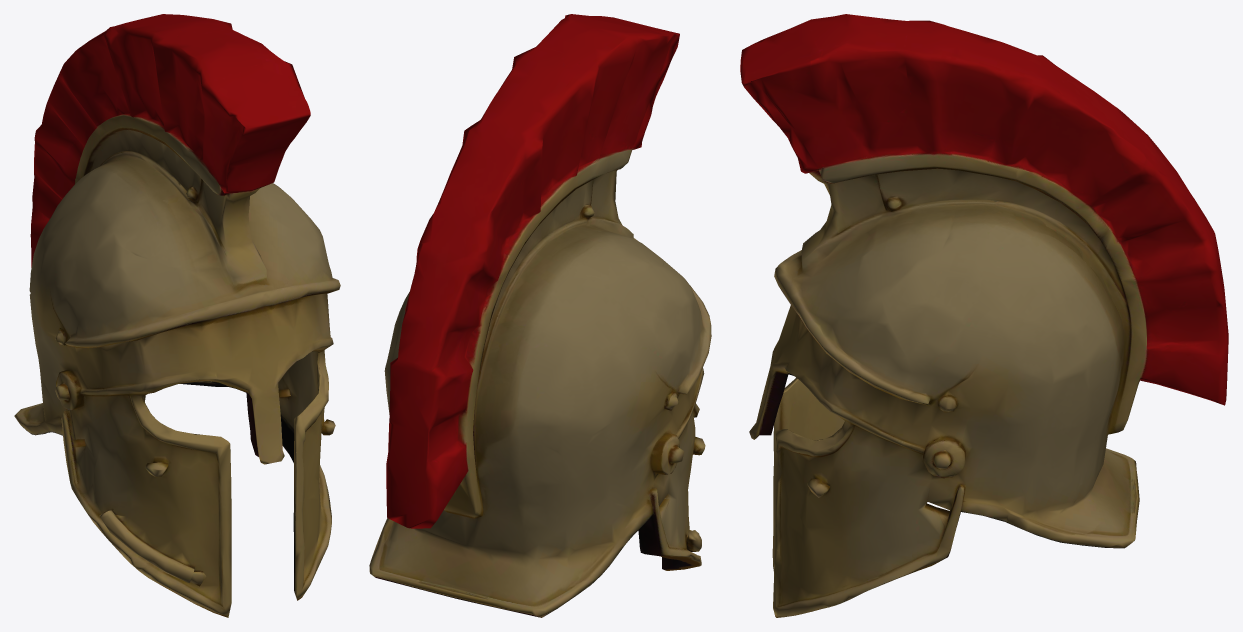
File: helmet.glb
3 renders of one model, left to right at view 1: azimuth 30°, elevation 25°; view 2: azimuth 150°, elevation 25°; view 3: azimuth 270°, elevation 25°, orthographic. The views are drawn at different scales.
Visible parts, largest first — view 1: tripo_node_1ce73e2d-44f3-4b07-b92a-cba2ce7c2c00; view 2: tripo_node_1ce73e2d-44f3-4b07-b92a-cba2ce7c2c00; view 3: tripo_node_1ce73e2d-44f3-4b07-b92a-cba2ce7c2c00.
Part boxes in pixels (x1,y1,x2,y2): tripo_node_1ce73e2d-44f3-4b07-b92a-cba2ce7c2c00: [14, 14, 340, 617]; tripo_node_1ce73e2d-44f3-4b07-b92a-cba2ce7c2c00: [369, 14, 711, 617]; tripo_node_1ce73e2d-44f3-4b07-b92a-cba2ce7c2c00: [740, 14, 1228, 617].
Size of the model in its own units: 0.4969 by 1 by 0.7773.
Materials: 1 (1 with a texture image).
